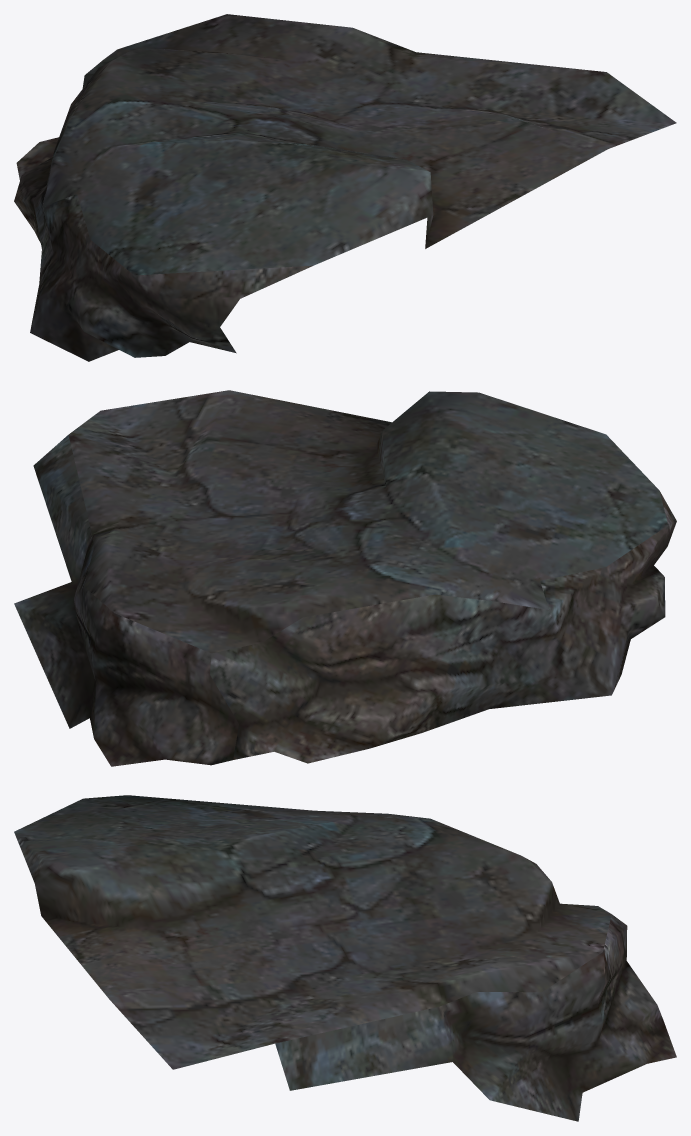
Rendered from S_Rock_Yellow036_H04.FBX.
The picture shows the model from 3 angles, top to bottom: view 1: azimuth 30°, elevation 25°; view 2: azimuth 150°, elevation 25°; view 3: azimuth 270°, elevation 25°; orthographic projection. The views are drawn at different scales.
Visible parts, largest first — view 1: S_Rock_Yellow036_H04; view 2: S_Rock_Yellow036_H04; view 3: S_Rock_Yellow036_H04.
Part boxes in pixels (<box>): S_Rock_Yellow036_H04: <box>14,14,676,361</box>; S_Rock_Yellow036_H04: <box>14,390,676,766</box>; S_Rock_Yellow036_H04: <box>14,795,676,1121</box>.
Size of the model in its own units: 673 by 653 by 208.
1 material, 1 textured.
